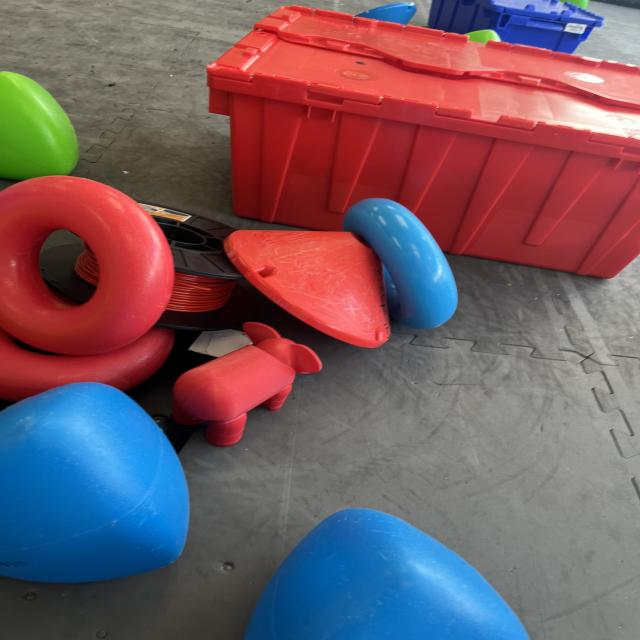Blue-Ring: (343, 199, 457, 329)
Red-Ring: (0, 176, 173, 355), (0, 328, 175, 401), (18, 375, 23, 378)
